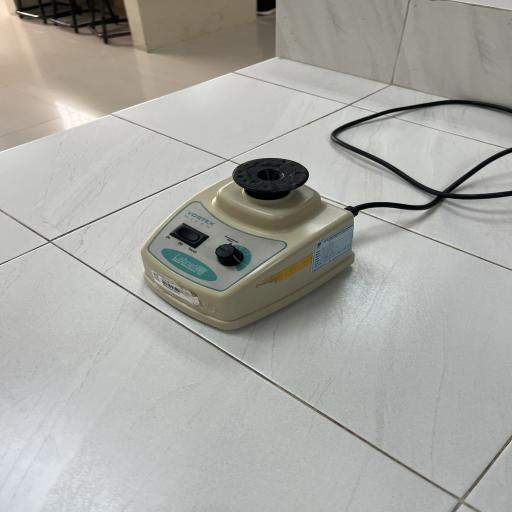Vortex_Mixer_LabNet: (124, 146, 377, 340)
